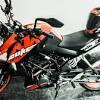helmet: (88, 4, 100, 41)
